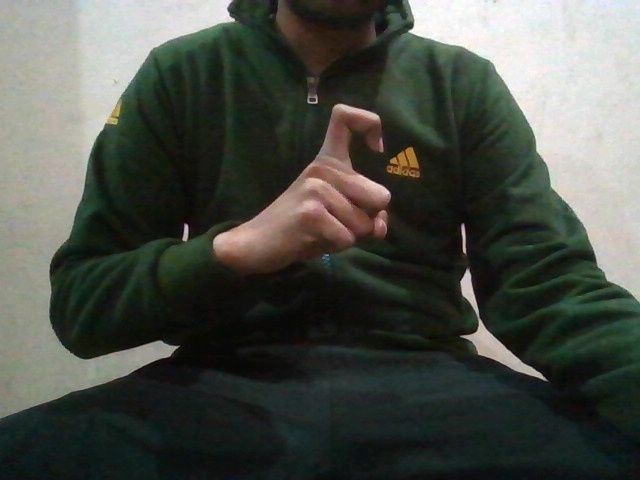P: (309, 97, 391, 268)
